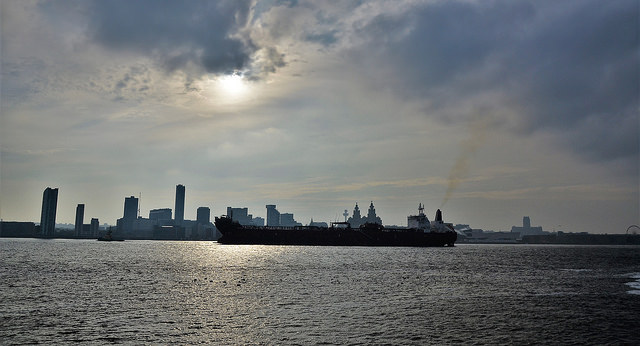tanker: (215, 206, 459, 250)
tug_boat: (94, 226, 126, 242)
